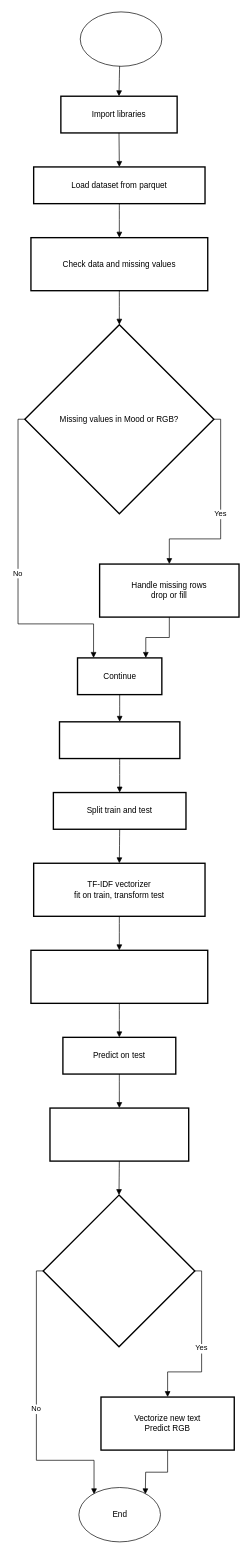
Some shapes in this 251 by 1554 pixel diagram are drawn without their labels. The shapes that lost their labels are listed below. From the top down, each one's centre as x and y in pixels, then its label:
point (121, 38): Start
point (119, 740): Clean Mood text
point (119, 976): Train RandomForestRegressor
point (119, 1134): Compute metrics R2, MAE, MSE, RMSE
point (118, 1270): Predict new mood text?
